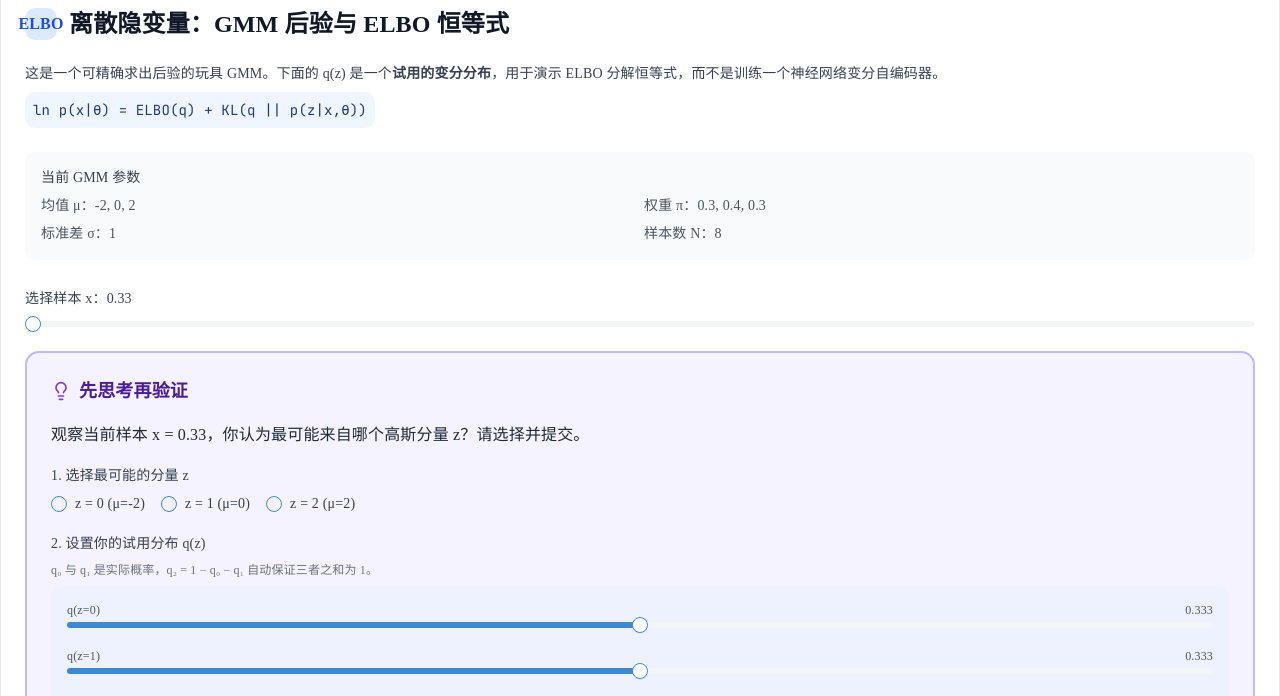
it: pedagogical invariants: fourth batch › DiscreteLatentELBODemo: reveal shows posterior and correctness feedback
Click the 1st radio button. click: coordinates (59, 504)
box: [51,496,67,512]
(page scrolled)
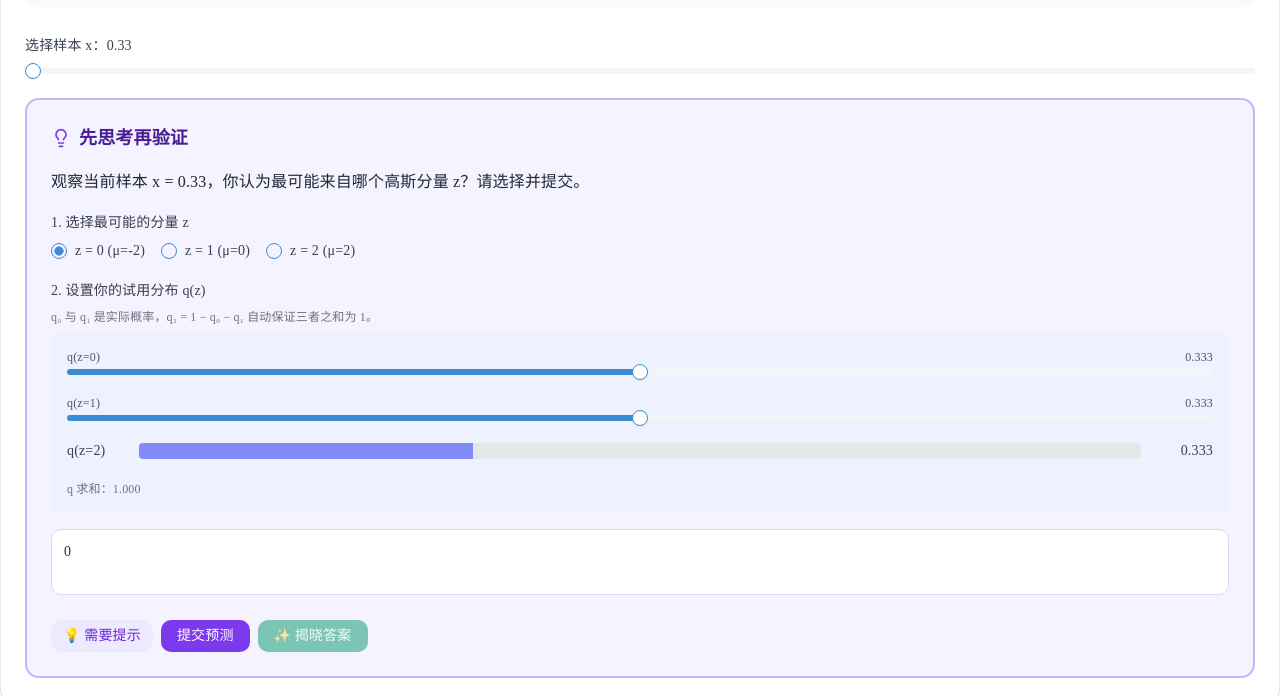
Click the button "提交预测". click: coordinates (205, 636)
box: [161,620,250,652]
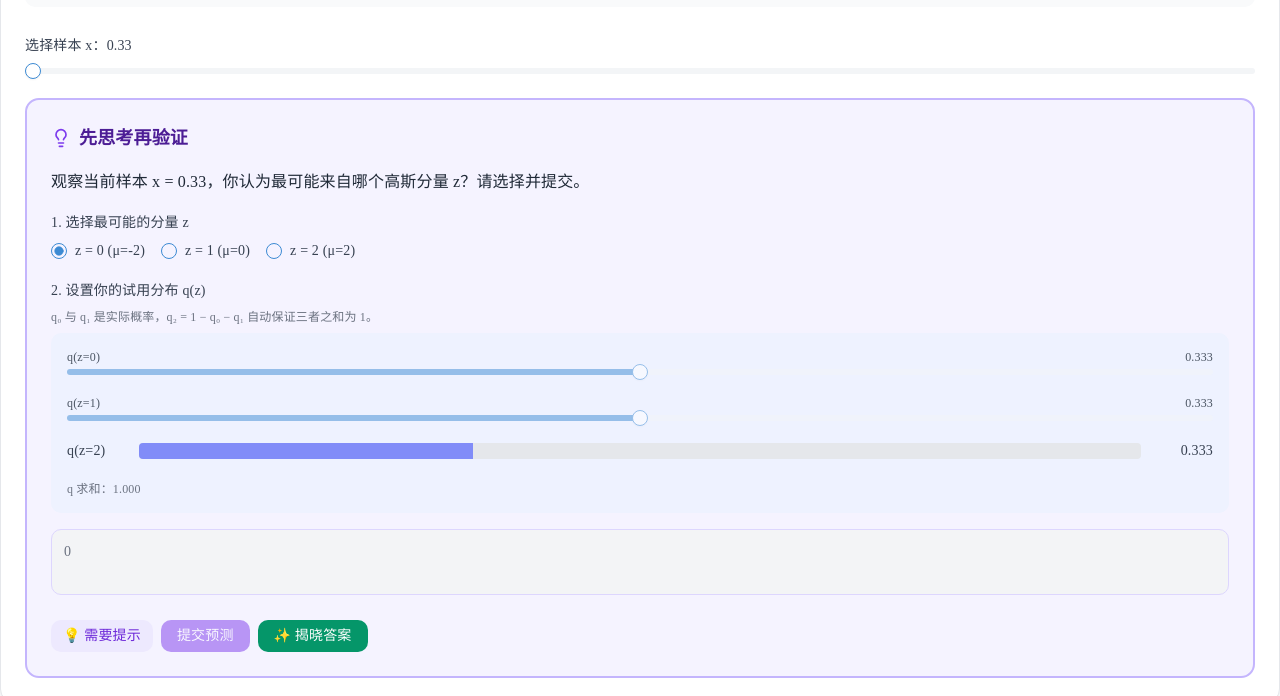
Now the button "✨ 揭晓答案" is enabled
Click the button "✨ 揭晓答案". click: coordinates (313, 636)
box: [258,620,368,652]
(page scrolled)
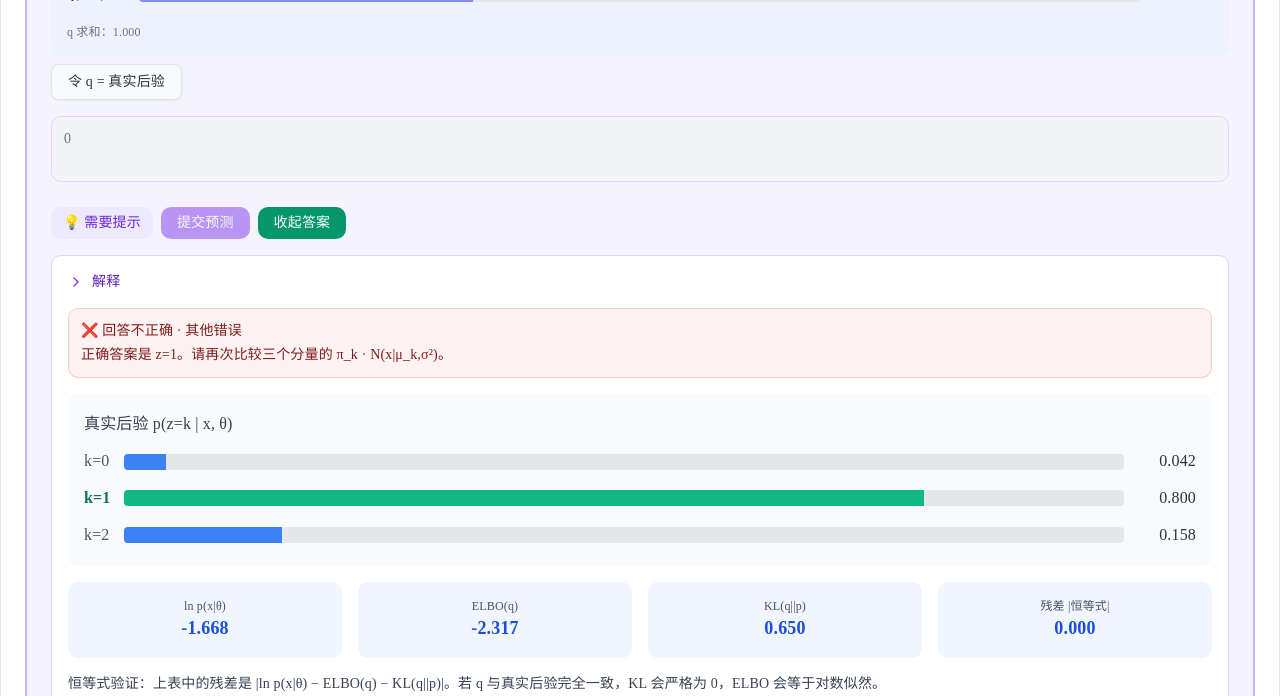
Now the text "真实后验" is shown, box [51,64,182,100]
Now the element with test id "evaluation-feedback" is shown, box [68,308,1212,378]
